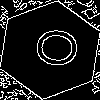O: (25, 25, 80, 70)
